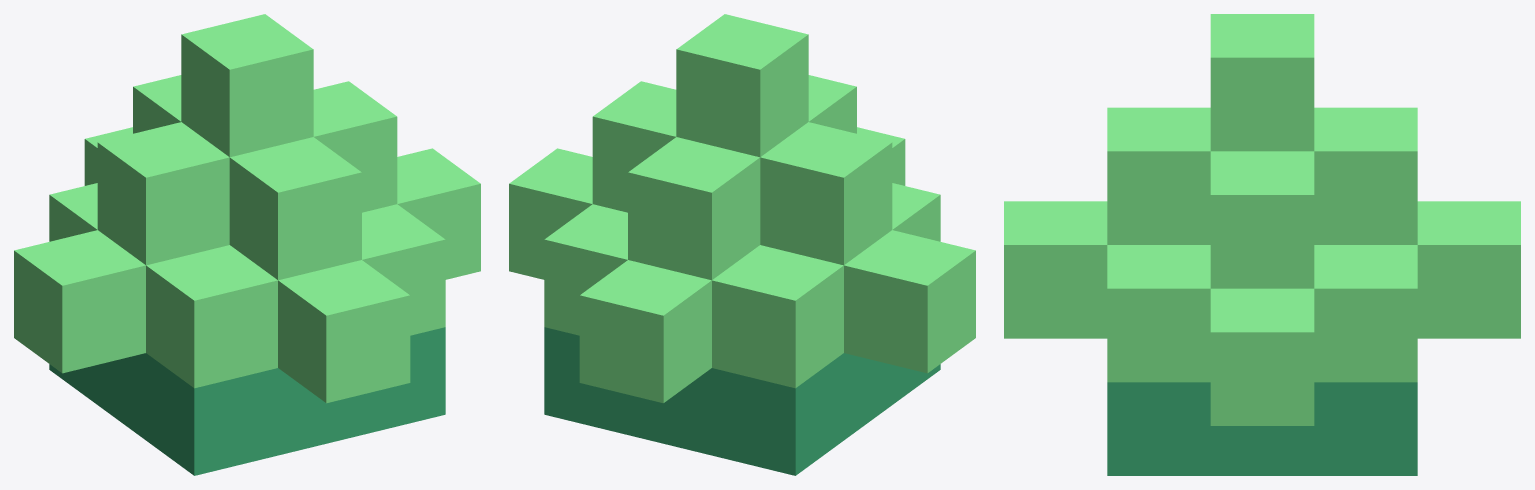
The model's file is Cabbage.obj.
The picture shows the model from 3 angles, left to right: view 1: azimuth 30°, elevation 25°; view 2: azimuth 150°, elevation 25°; view 3: azimuth 270°, elevation 25°; orthographic projection. The views are drawn at different scales.
Bounding box in the file's own units: 0.5 × 0.4 × 0.5.
1 material, 1 textured.
